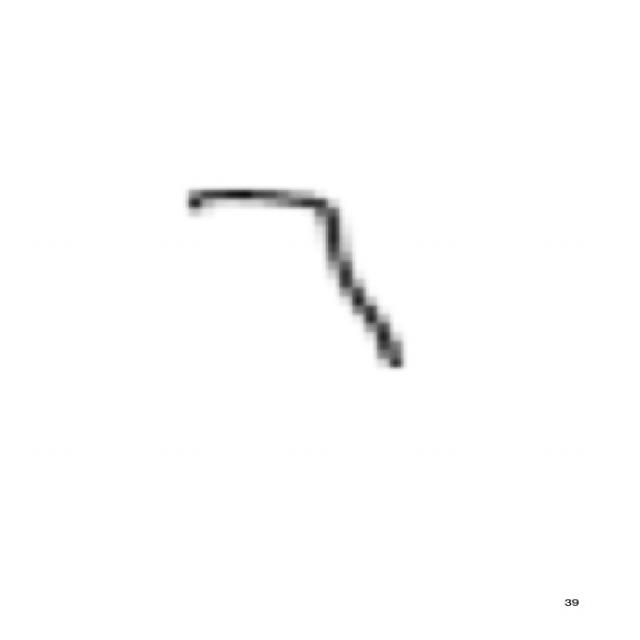6 -six-: (172, 177, 419, 379)
